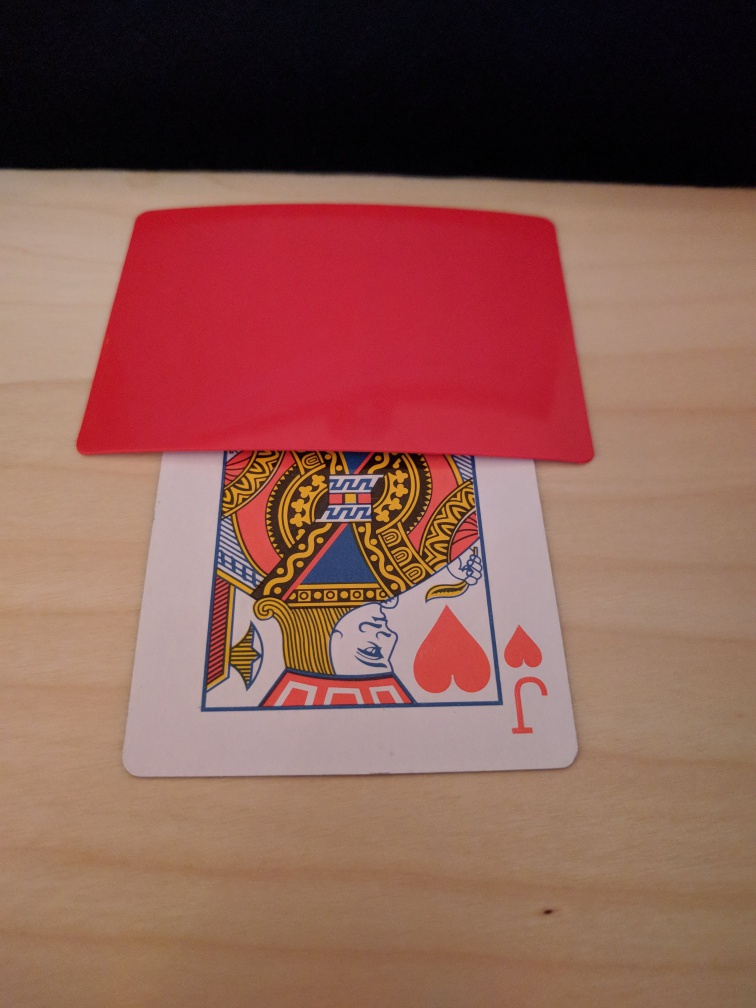jack: (120, 450, 580, 779)
